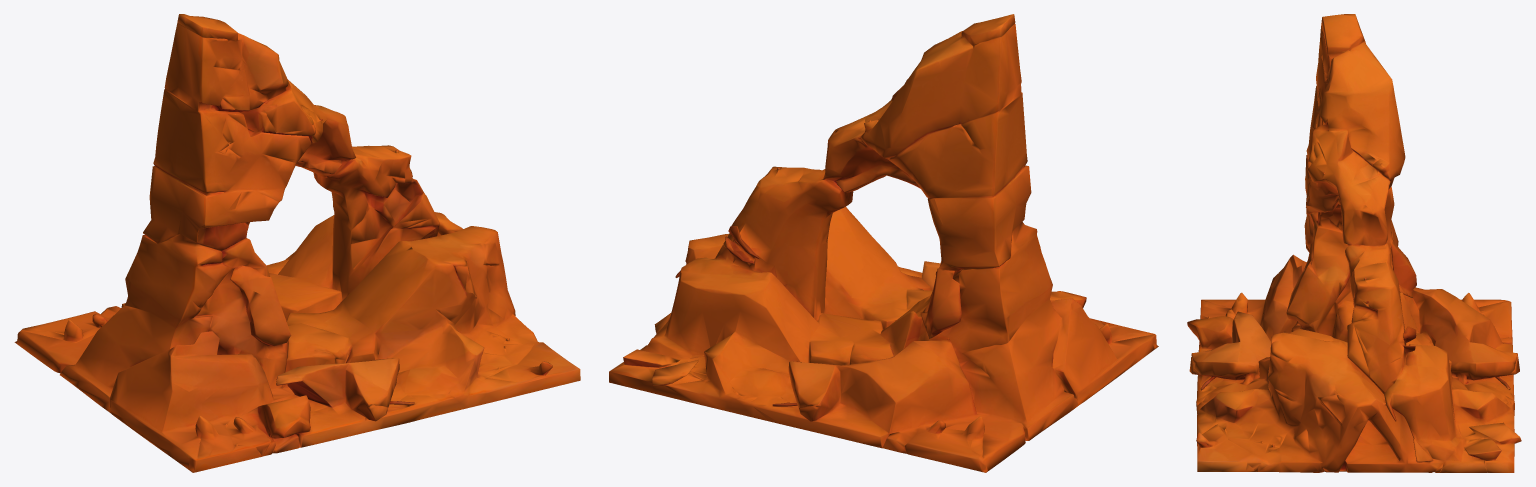
File: env_west_rock_3.fbx
3 renders of one model, left to right at view 1: azimuth 30°, elevation 25°; view 2: azimuth 150°, elevation 25°; view 3: azimuth 270°, elevation 25°, orthographic. The views are drawn at different scales.
Visible parts, largest first — view 1: env_west_rock_3_LOD0; view 2: env_west_rock_3_LOD0; view 3: env_west_rock_3_LOD0.
Part boxes in pixels (box(x1,y1,x2,y2)): env_west_rock_3_LOD0: box(14, 14, 580, 472); env_west_rock_3_LOD0: box(609, 14, 1158, 472); env_west_rock_3_LOD0: box(1187, 14, 1521, 472).
Size of what is drawn, in the model's own units: 0.9802 by 0.8867 by 0.822.
